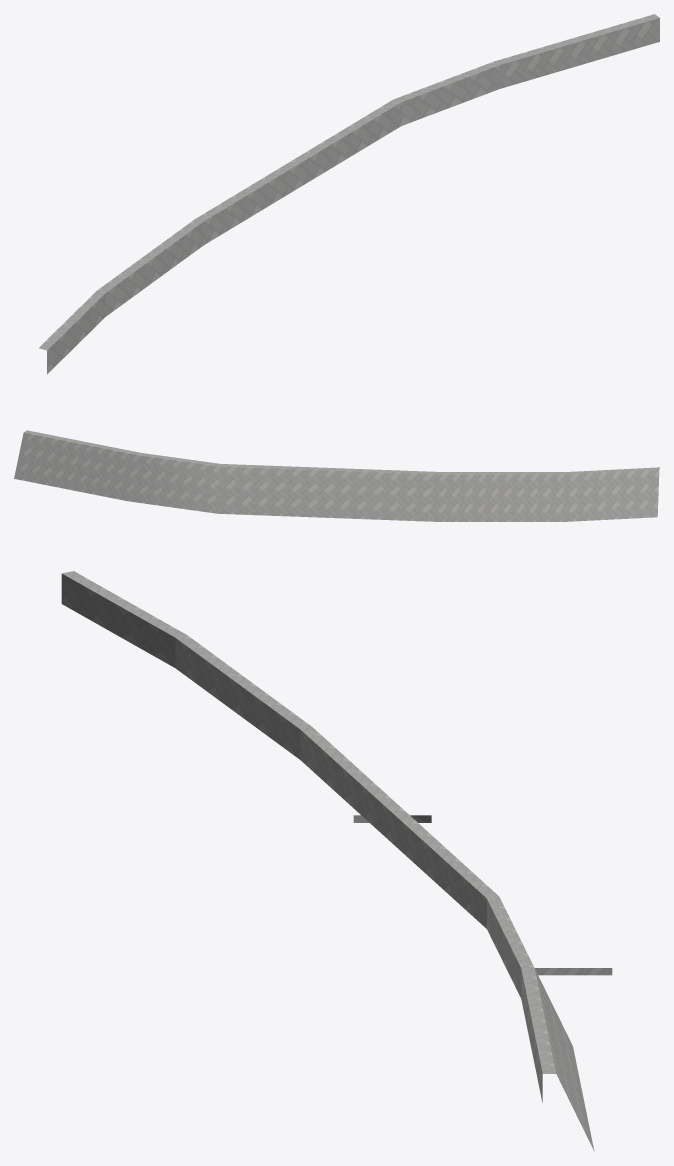
Rendered from kd_stage_135ded_0_1.glb.
3 renders of one model, top to bottom at view 1: azimuth 30°, elevation 25°; view 2: azimuth 150°, elevation 25°; view 3: azimuth 270°, elevation 25°, orthographic. The views are drawn at different scales.
Visible parts, largest first — view 1: kd_stage_135ded_0_1; view 2: kd_stage_135ded_0_1; view 3: kd_stage_135ded_0_1.
Boxes of the visible parts, x1,y1,x2,y2 form: kd_stage_135ded_0_1: (39, 14, 659, 374); kd_stage_135ded_0_1: (14, 430, 659, 521); kd_stage_135ded_0_1: (61, 571, 612, 1151).
Bounding box in the file's own units: 71.49 × 6.11 × 32.64.
Materials: 1 (1 with a texture image).
